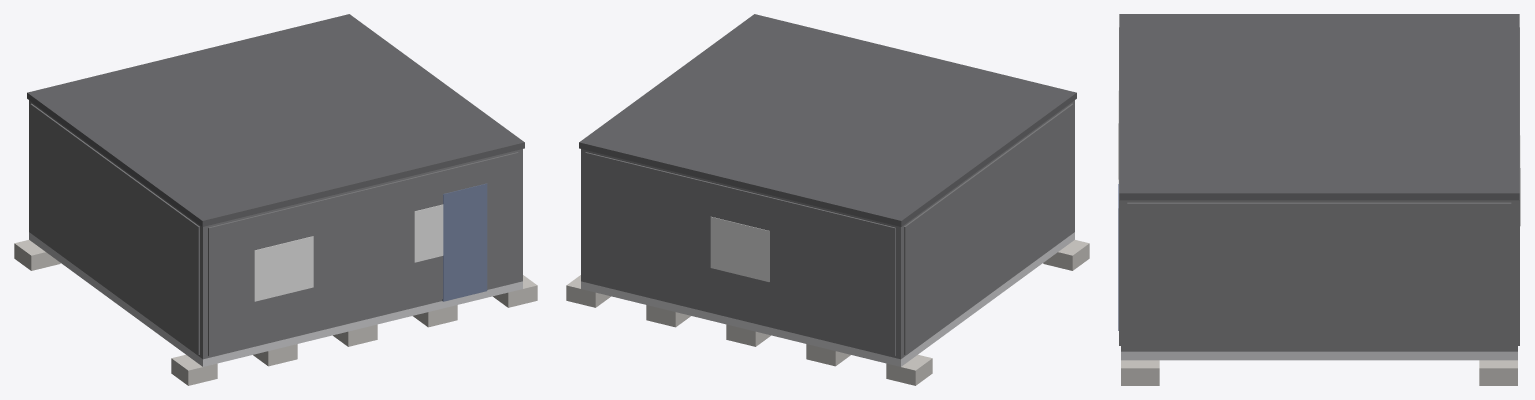
File: Studio-20-Base-CharcoalSilver-LOD2.glb
The picture shows the model from 3 angles, left to right: view 1: azimuth 30°, elevation 25°; view 2: azimuth 150°, elevation 25°; view 3: azimuth 270°, elevation 25°; orthographic projection. The views are drawn at different scales.
Visible parts, largest first — view 1: RoofMain, ExteriorPanelsStandard, EntryDoor, WindowsStandard, FoundationBlocks, ExteriorShell, BaseFrame; view 2: ExteriorPanelsStandard, RoofMain, FoundationBlocks, BaseFrame, ExteriorShell, WindowsStandard; view 3: RoofMain, ExteriorPanelsStandard, ExteriorShell, BaseFrame, FoundationBlocks.
Part boxes in pixels (box(x1,y1,x2,y2)): RoofMain: box(27, 14, 524, 226); ExteriorPanelsStandard: box(30, 103, 518, 355); EntryDoor: box(442, 183, 487, 301); WindowsStandard: box(254, 204, 443, 301); FoundationBlocks: box(14, 240, 537, 385); ExteriorShell: box(29, 100, 522, 359); BaseFrame: box(29, 232, 522, 366); ExteriorPanelsStandard: box(585, 103, 1073, 355); RoofMain: box(579, 14, 1076, 226); FoundationBlocks: box(566, 240, 1089, 385); BaseFrame: box(581, 232, 1074, 366); ExteriorShell: box(581, 100, 1074, 359); WindowsStandard: box(710, 216, 769, 281); RoofMain: box(1119, 14, 1519, 200); ExteriorPanelsStandard: box(1119, 27, 1519, 349); ExteriorShell: box(1121, 200, 1517, 351); BaseFrame: box(1121, 351, 1517, 360); FoundationBlocks: box(1121, 360, 1517, 385).
Bounding box in the file's own units: 7.14 × 3.17 × 6.24.
